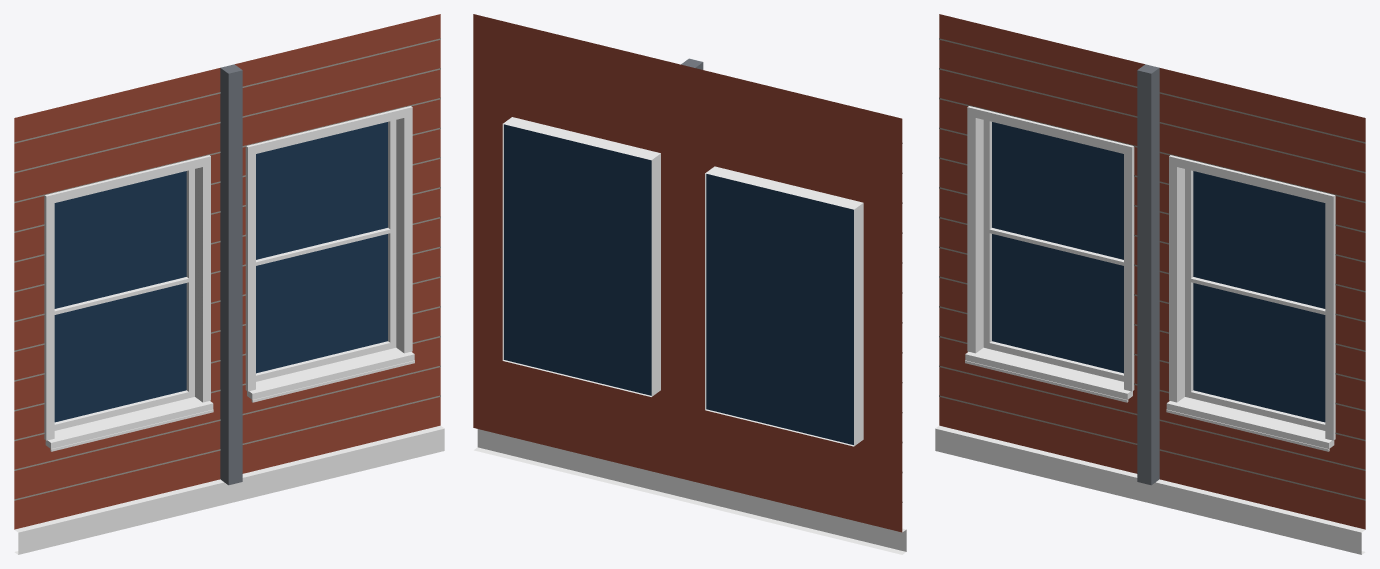
Rendered from mid-w1_close.fbx.
3 renders of one model, left to right at view 1: azimuth 30°, elevation 25°; view 2: azimuth 150°, elevation 25°; view 3: azimuth 330°, elevation 25°, orthographic.
Visible parts, largest first — view 1: a2009/600/mid-w1_close; view 2: a2009/600/mid-w1_close; view 3: a2009/600/mid-w1_close.
Boxes of the visible parts, x1=… form: a2009/600/mid-w1_close: x1=14, y1=14, x2=444, y2=554; a2009/600/mid-w1_close: x1=473, y1=14, x2=906, y2=554; a2009/600/mid-w1_close: x1=935, y1=14, x2=1365, y2=554.
Bounding box in the file's own units: 3.6 × 3.5 × 0.26.
